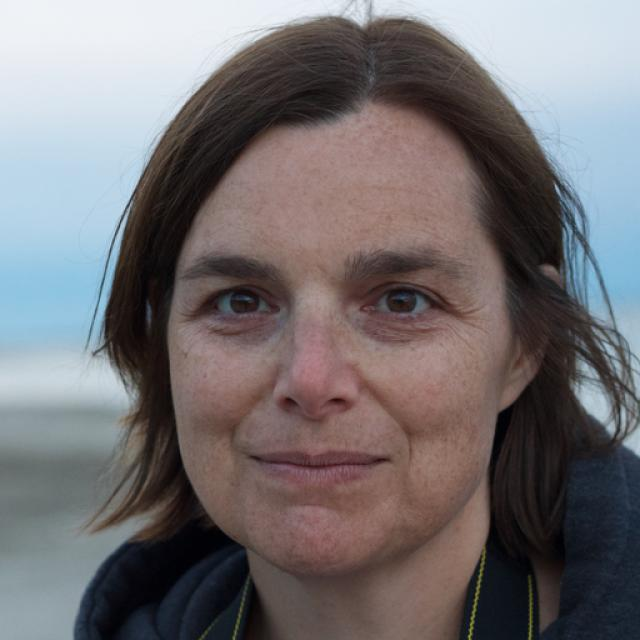Pigmentation: (341, 108, 462, 168), (284, 298, 358, 351), (413, 403, 483, 457)
